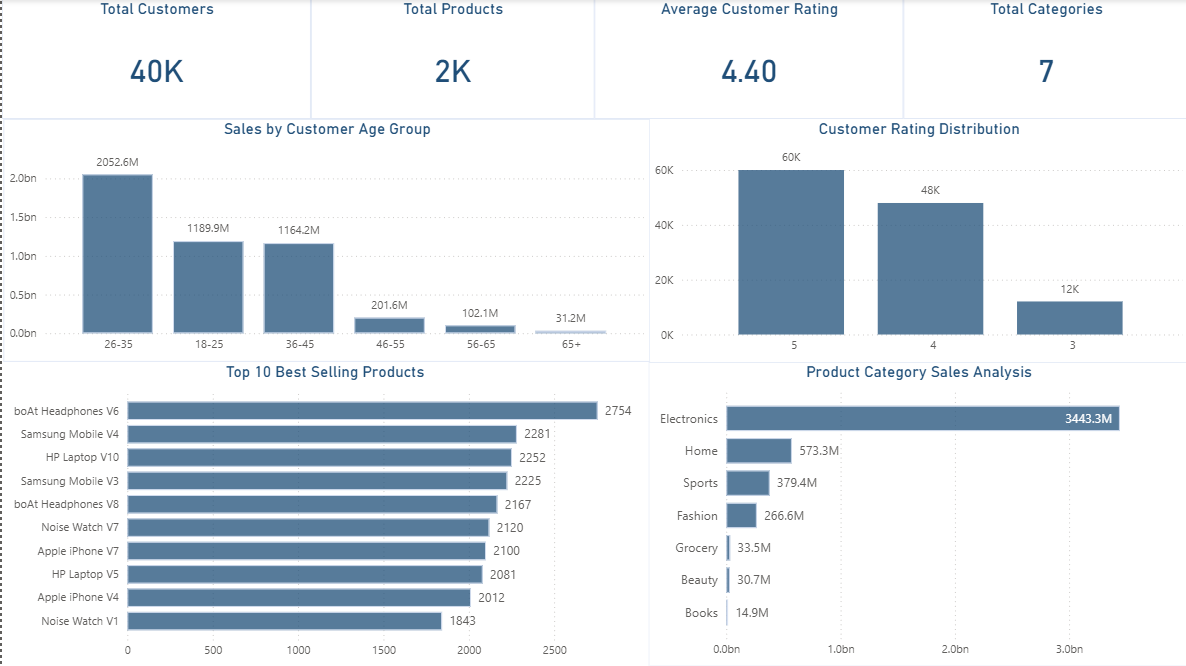

This screenshot's page, from the dashboard's own definition file:
{"tool":"powerbi","page":{"name":"Customer & Product Analysis","canvas":[1280,720],"ordinal":1},"visuals":[{"type":"card","title":"Total Customers","fields":{"Values":["indian_ecommerce customers.Total Customers"]},"box":[0,0,333.6,129.5],"z":0},{"type":"card","title":"Total Products","fields":{"Values":["indian_ecommerce customers.Total Products"]},"box":[333.6,0,306,129.5],"z":1000},{"type":"card","title":"Average Customer Rating","fields":{"Values":["indian_ecommerce customers.Average Customer Rating"]},"box":[639.6,0,333.6,129.5],"z":2000},{"type":"card","title":"Total Categories","fields":{"Values":["indian_ecommerce customers.Total Categories"]},"box":[973.2,0,307.7,129.5],"z":3000},{"type":"clusteredColumnChart","title":"Sales by Customer Age Group","fields":{"Category":["indian_ecommerce customers.Age_Group"],"Y":["indian_ecommerce sales.Total Sales"]},"box":[1.6,129.5,697.9,262.3],"z":4000},{"type":"clusteredBarChart","title":"Product Category Sales Analysis","fields":{"Category":["indian_ecommerce products.Category"],"Y":["indian_ecommerce sales.Total Sales"]},"box":[697.9,391.9,582.9,328.7],"z":5000},{"type":"clusteredBarChart","title":"Top 10 Best Selling Products","fields":{"Category":["indian_ecommerce products.Product_Name"],"Y":["indian_ecommerce sales.Total Quantity Sold"]},"box":[0,391.9,697.9,328.7],"z":6000},{"type":"clusteredColumnChart","title":"Customer Rating Distribution","fields":{"Category":["indian_ecommerce sales.Rating"],"Y":["CountNonNull(indian_ecommerce sales.Order_ID)"]},"box":[699.5,129.5,581.3,262.3],"z":6001}]}

Visuals, with their boxes in screenshot pixels (x1, y1, x2, y2), scaled from the page's 1280x720 canvas onto the 1186x666 screenshot:
"Total Customers" card: bbox=[0, 0, 309, 120]
"Total Products" card: bbox=[309, 0, 593, 120]
"Average Customer Rating" card: bbox=[593, 0, 902, 120]
"Total Categories" card: bbox=[902, 0, 1185, 120]
"Sales by Customer Age Group" clusteredColumnChart: bbox=[1, 120, 648, 362]
"Product Category Sales Analysis" clusteredBarChart: bbox=[647, 363, 1185, 665]
"Top 10 Best Selling Products" clusteredBarChart: bbox=[0, 363, 647, 665]
"Customer Rating Distribution" clusteredColumnChart: bbox=[648, 120, 1185, 362]
